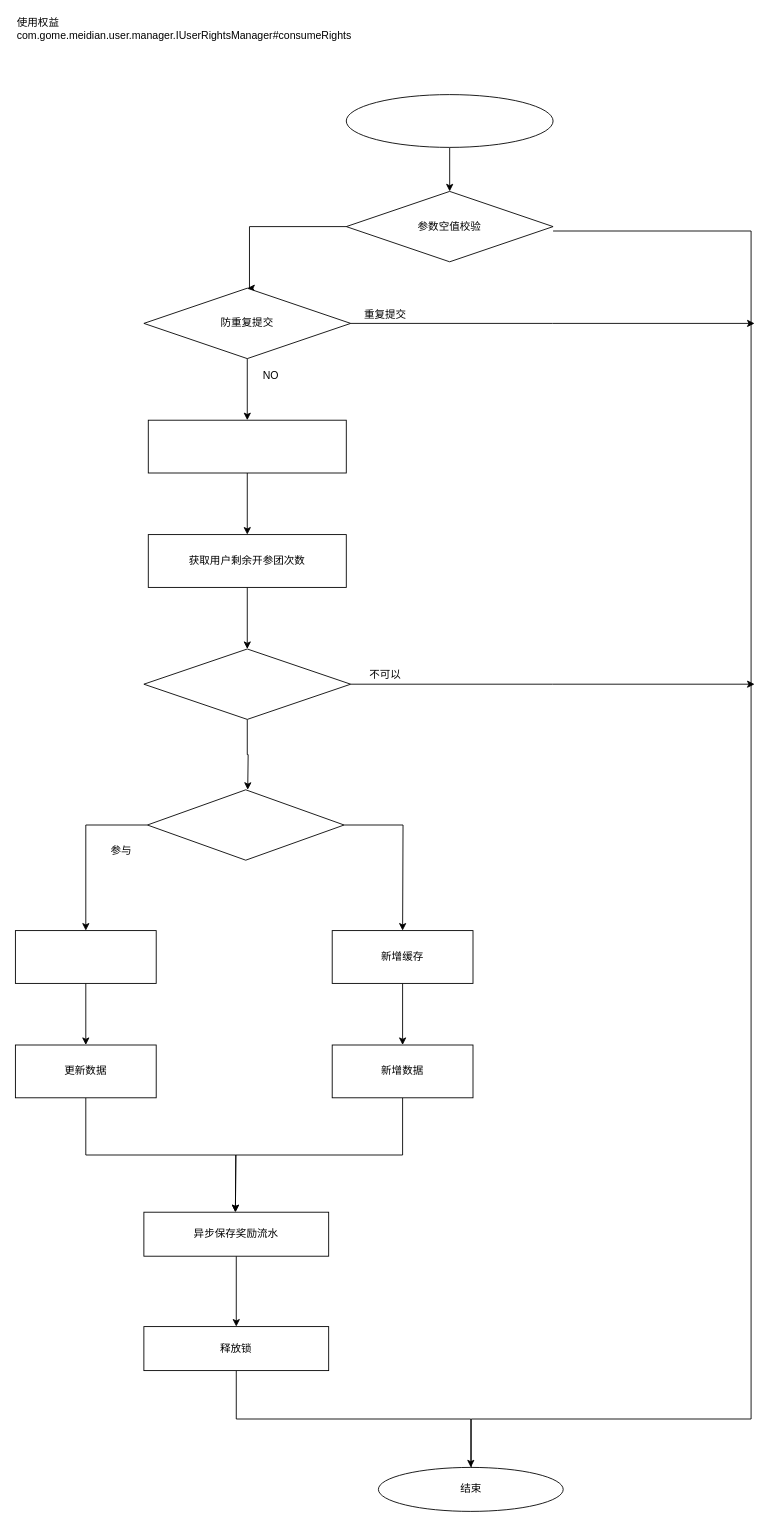
The diagram is 777 pixels wide and 1527 high, and some of its shapes have lost their labels. The box of each missing label's shape, as (x1, y1, x2, y2) in pixels:
判断用户是否参与美店权益: (147, 789, 344, 860)
判断用户是否可以开参团: (143, 648, 351, 719)
开始: (345, 94, 553, 147)
自增缓存: (15, 930, 156, 983)
获取权益基础配置: (147, 419, 346, 473)
